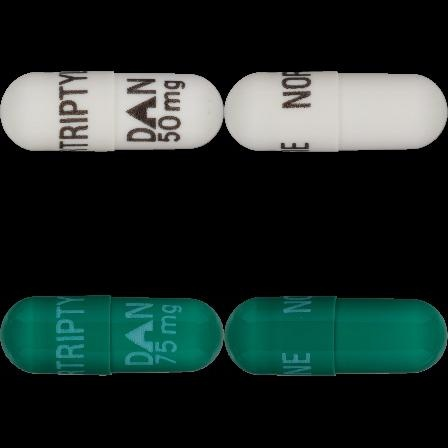21695-599: (0, 0, 224, 224)
